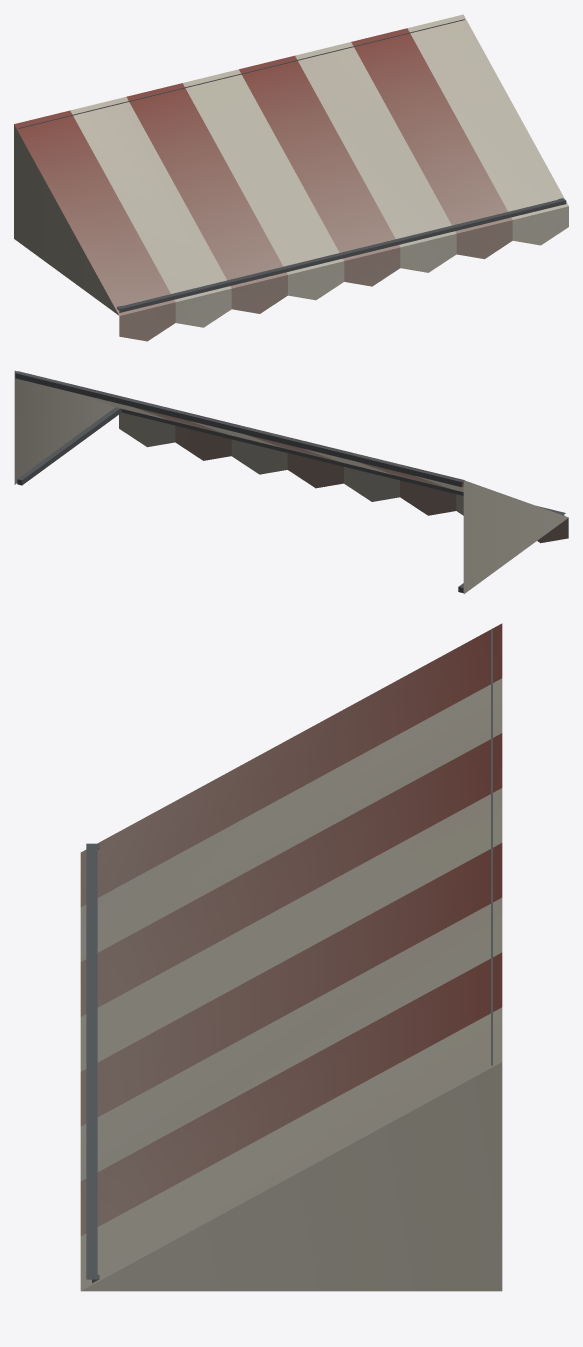
The model's file is shop.awning.faded.glb.
The picture shows the model from 3 angles, top to bottom: view 1: azimuth 30°, elevation 25°; view 2: azimuth 150°, elevation 25°; view 3: azimuth 270°, elevation 25°; orthographic projection. The views are drawn at different scales.
Visible parts, largest first — view 1: shop_awning_faded; view 2: shop_awning_faded; view 3: shop_awning_faded.
Part boxes in pixels (left/top/right/bottom): shop_awning_faded: left=14, top=14, right=568, bottom=341; shop_awning_faded: left=14, top=370, right=568, bottom=593; shop_awning_faded: left=80, top=623, right=502, bottom=1291.
Size of what is drawn, in the model's own units: 3.2 by 1 by 1.3.
